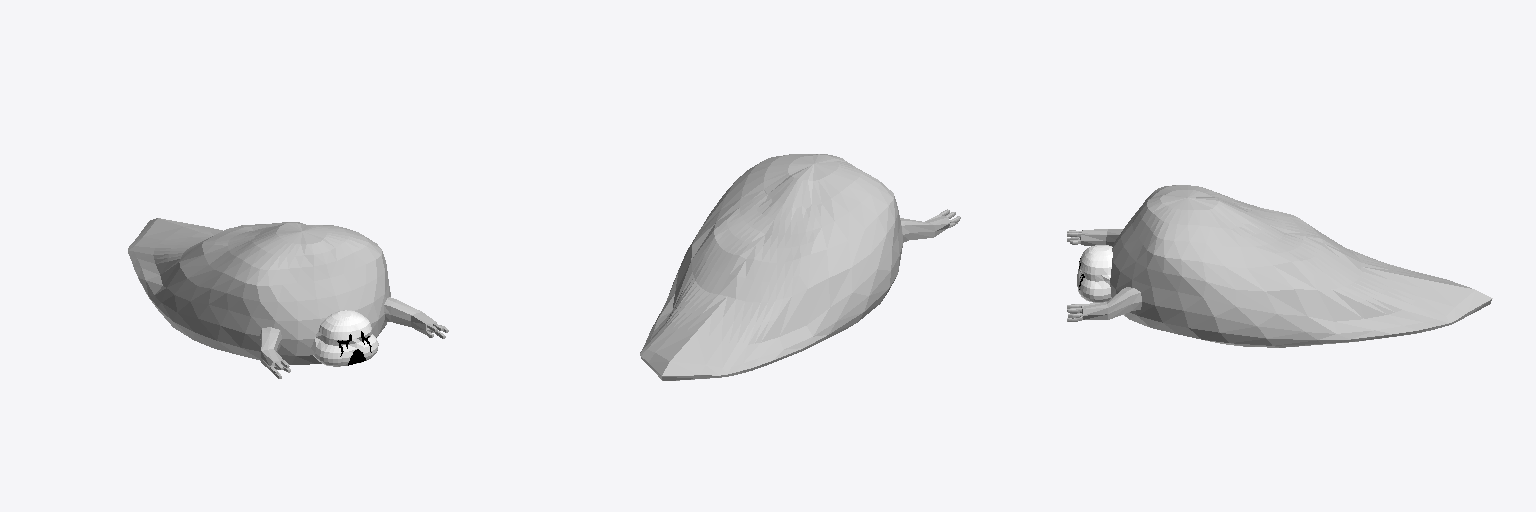
3 renders of one model, left to right at view 1: azimuth 30°, elevation 25°; view 2: azimuth 150°, elevation 25°; view 3: azimuth 270°, elevation 25°, orthographic.
Visible parts, largest first — view 1: Sphere, Sphere.001, Arm; view 2: Sphere, Arm; view 3: Sphere, Arm, Sphere.001.
Boxes of the visible parts, x1,y1,x2,y2 form: Sphere: [128, 218, 390, 364]; Sphere.001: [311, 310, 378, 366]; Arm: [260, 297, 448, 378]; Sphere: [640, 154, 902, 380]; Arm: [900, 209, 960, 242]; Sphere: [1110, 185, 1492, 347]; Arm: [1067, 229, 1141, 321]; Sphere.001: [1077, 245, 1112, 302].
Bounding box in the file's own units: 2.13 × 1.3 × 4.3.
2 materials, 1 textured.